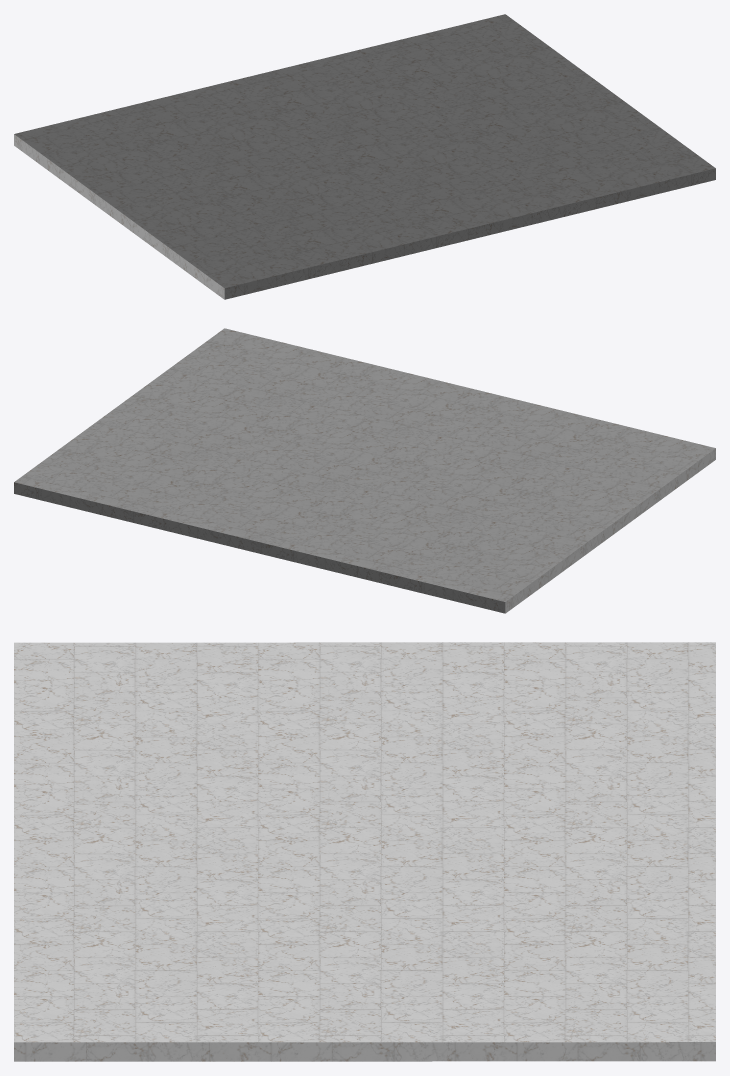
Rendered from Floor_9e83287a.obj.
The picture shows the model from 3 angles, top to bottom: view 1: azimuth 30°, elevation 25°; view 2: azimuth 150°, elevation 25°; view 3: azimuth 270°, elevation 25°; orthographic projection. The views are drawn at different scales.
Parts seen in each view (by area): view 1: mesh_fc82fbf6; view 2: mesh_fc82fbf6; view 3: mesh_fc82fbf6.
Part boxes in pixels (bbox=[...]): mesh_fc82fbf6: bbox=[14, 14, 715, 299]; mesh_fc82fbf6: bbox=[14, 328, 715, 613]; mesh_fc82fbf6: bbox=[14, 642, 715, 1061].
Bounding box in the file's own units: 3.85 × 0.0875 × 2.86.
